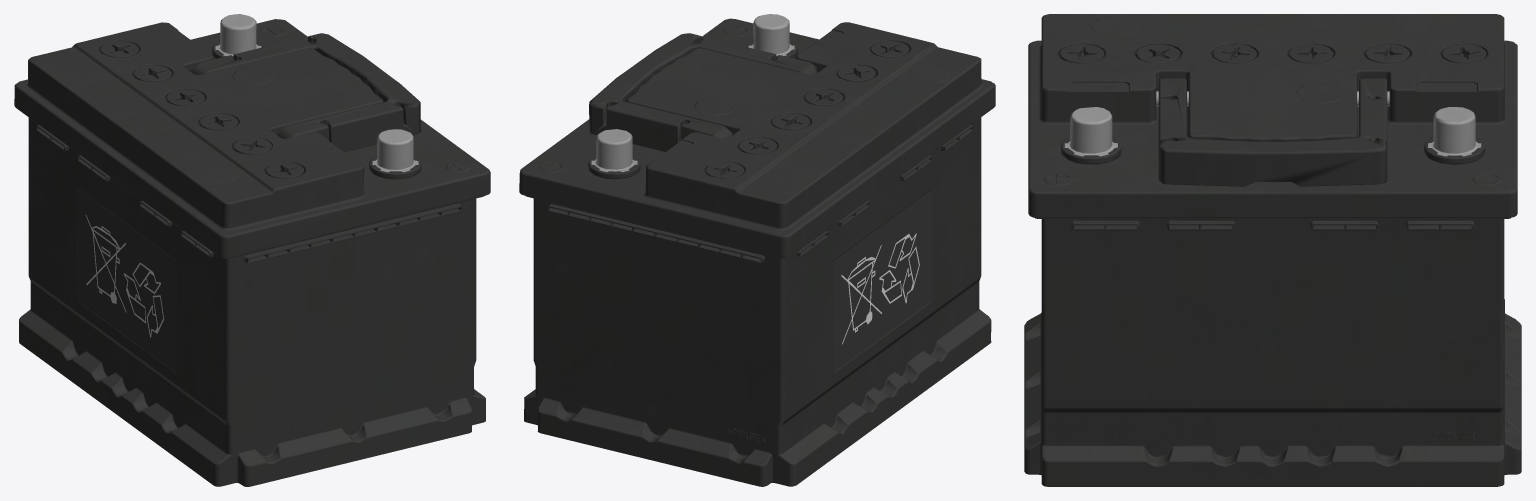
Rendered from battery.glb.
3 views of the same model, side by side, from view 1: azimuth 30°, elevation 25°; view 2: azimuth 150°, elevation 25°; view 3: azimuth 270°, elevation 25° (orthographic). The views are drawn at different scales.
Visible parts, largest first — view 1: battery, battery_handle; view 2: battery, battery_handle; view 3: battery, battery_handle.
Boxes of the visible parts, x1,y1,x2,y2 form: battery: [14, 14, 490, 486]; battery_handle: [190, 33, 420, 152]; battery: [519, 14, 995, 486]; battery_handle: [589, 33, 818, 151]; battery: [1024, 14, 1521, 486]; battery_handle: [1158, 77, 1387, 186].
Size of the model in its own units: 0.19 by 0.1919 by 0.26.
4 materials, 3 textured.
